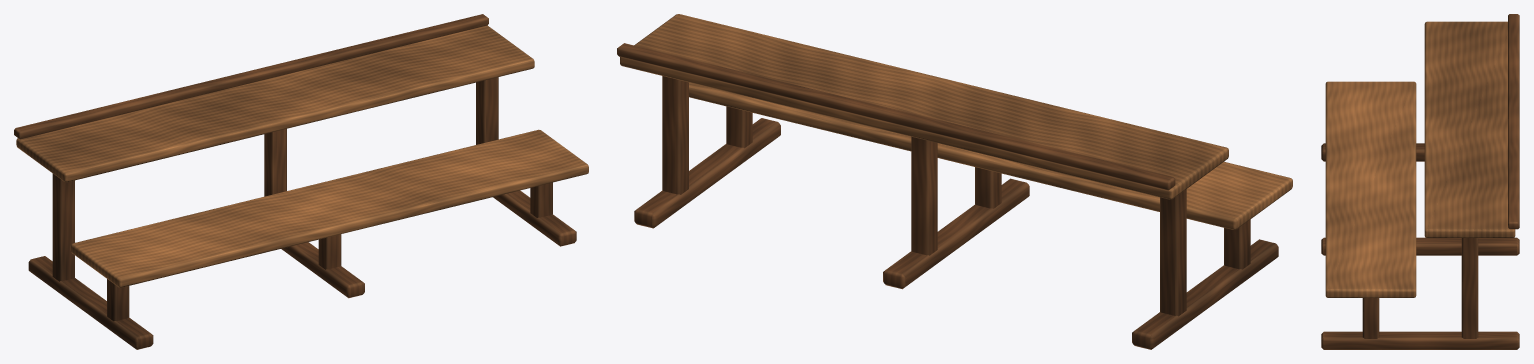
The model's file is Furn_MagicLab_Bleachers.fbx.
3 views of the same model, side by side, from view 1: azimuth 30°, elevation 25°; view 2: azimuth 150°, elevation 25°; view 3: azimuth 270°, elevation 25° (orthographic). The views are drawn at different scales.
Visible parts, largest first — view 1: Furn_MagicLab_Bleachers; view 2: Furn_MagicLab_Bleachers; view 3: Furn_MagicLab_Bleachers.
Part boxes in pixels (<box>): Furn_MagicLab_Bleachers: <box>14,14,588,349</box>; Furn_MagicLab_Bleachers: <box>617,14,1292,349</box>; Furn_MagicLab_Bleachers: <box>1321,14,1519,349</box>.
Size of the model in its own units: 3 by 0.9 by 1.2.
2 materials, 2 textured.
